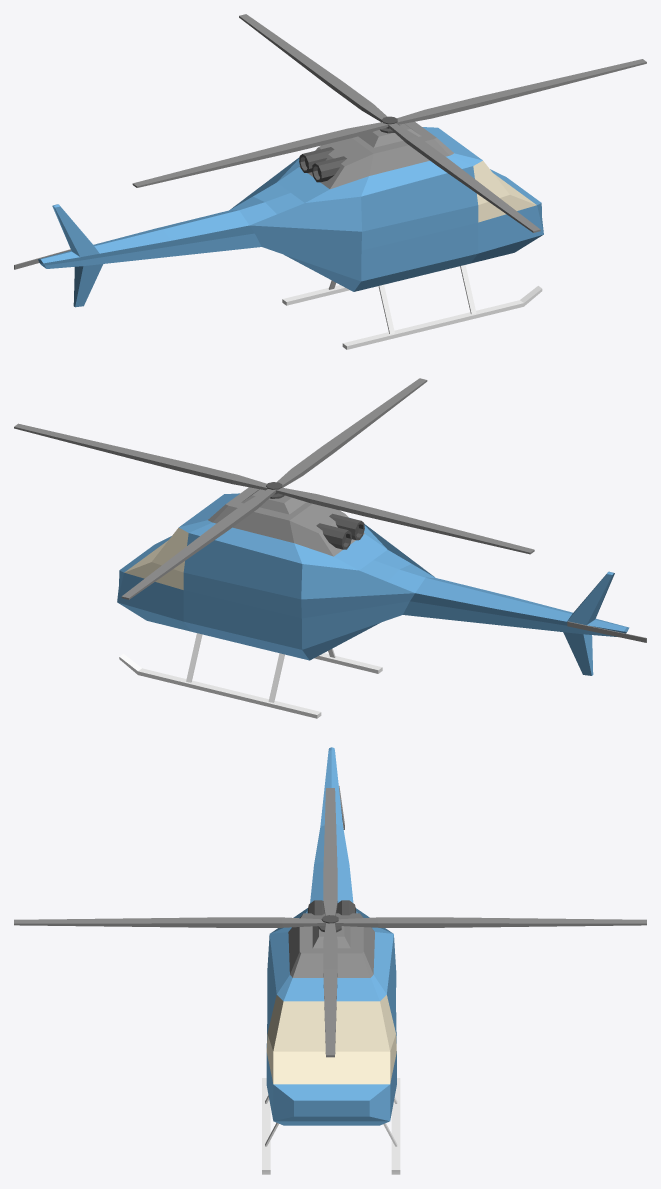
The model's file is helicopter.glb.
The picture shows the model from 3 angles, top to bottom: view 1: azimuth 30°, elevation 25°; view 2: azimuth 150°, elevation 25°; view 3: azimuth 270°, elevation 25°; orthographic projection. The views are drawn at different scales.
Parts seen in each view (by area): view 1: body, rotor; view 2: body, rotor; view 3: body, rotor.
Part boxes in pixels (x1,y1,x2,y2): body: [38, 116, 543, 349]; rotor: [132, 14, 646, 232]; body: [117, 482, 629, 718]; rotor: [14, 378, 534, 599]; body: [262, 747, 400, 1174]; rotor: [14, 788, 646, 1057].
Size of the model in its own units: 3.29 by 0.9462 by 2.68.
